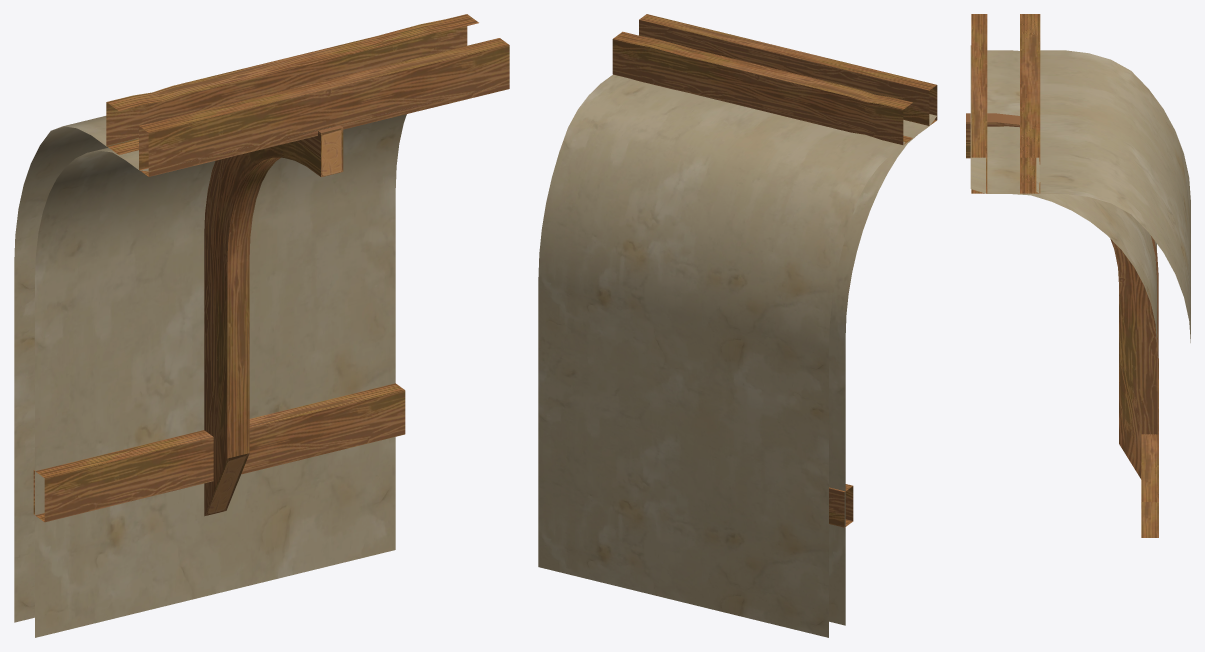
Rendered from Overhang_Plaster_Short.glb.
3 views of the same model, side by side, from view 1: azimuth 30°, elevation 25°; view 2: azimuth 150°, elevation 25°; view 3: azimuth 270°, elevation 25° (orthographic). The views are drawn at different scales.
Parts seen in each view (by area): view 1: Overhang_Plaster_Short; view 2: Overhang_Plaster_Short; view 3: Overhang_Plaster_Short.
Part boxes in pixels (x1,y1,x2,y2): Overhang_Plaster_Short: (14,14,509,637); Overhang_Plaster_Short: (538,14,937,637); Overhang_Plaster_Short: (966,14,1190,537).
Bounding box in the file's own units: 2 × 3.12 × 1.32.
2 materials, 2 textured.
